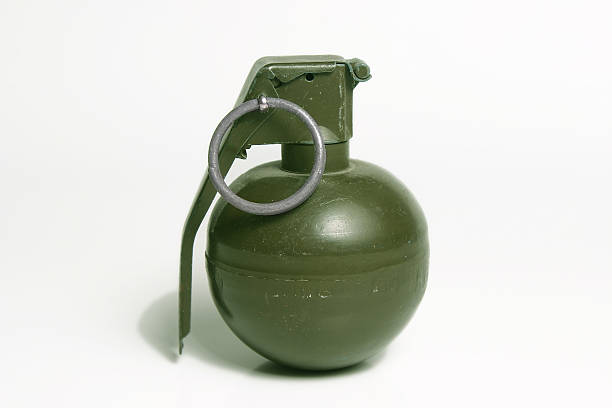e1: (170, 55, 430, 369)
